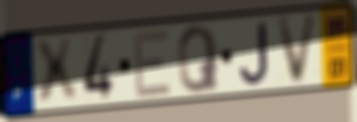4: (80, 31, 117, 106)
E: (131, 27, 173, 101)
J: (238, 20, 272, 88)
Q: (175, 24, 221, 96)
V: (275, 11, 321, 88)
X: (32, 35, 80, 110)
